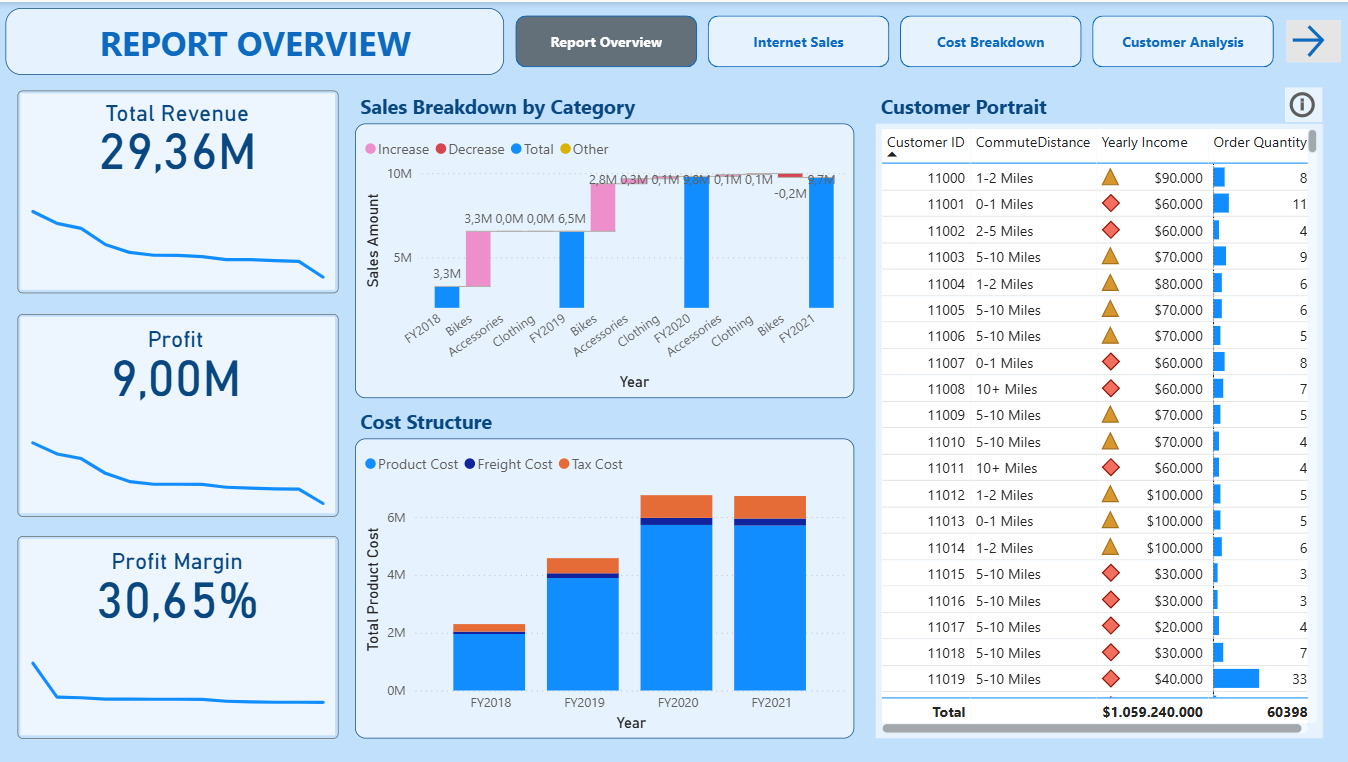

This screenshot's page, from the dashboard's own definition file:
{"tool":"powerbi","page":{"name":"Report Overview","canvas":[1280,720],"ordinal":0},"visuals":[{"type":"textbox","box":[7.2,6.2,471.8,63.6],"z":0},{"type":"pageNavigator","box":[490.3,13.3,720,49.2],"z":1000},{"type":"actionButton","box":[1220.5,17.4,51.3,40],"z":2000},{"type":"shape","box":[18.1,84.4,304,192],"z":3000},{"type":"lineChart","fields":{"Y":["Fact.Revenue"],"Category":["Date.Calendar.Quarter"]},"box":[18.5,176.6,303.9,90.9],"z":4000},{"type":"card","title":"Total Revenue","fields":{"Values":["Fact.Revenue"]},"box":[76.7,92.3,186,83.8],"z":5000},{"type":"shape","box":[18.1,295.2,304,192],"z":6000},{"type":"lineChart","fields":{"Category":["Date.Calendar.Quarter"],"Y":["Fact.Profit"]},"box":[18.5,390.5,303.9,90.9],"z":7000},{"type":"card","title":"Profit","fields":{"Values":["Fact.Profit"]},"box":[75.3,306.7,186,83.8],"z":8000},{"type":"shape","box":[18.1,505.9,304,192],"z":9000},{"type":"lineChart","fields":{"Category":["Date.Calendar.Quarter"],"Y":["Fact.Profit Margin"]},"box":[18.5,600.7,303.9,90.9],"z":10000},{"type":"card","title":"Profit Margin","fields":{"Values":["Fact.Profit Margin"]},"box":[76.7,516.9,186,83.8],"z":11000},{"type":"waterfallChart","title":"Sales Breakdown by Category","fields":{"Category":["Date.Calendar.Year","Date.Calendar.Quarter","Date.Calendar.Month"],"Y":["Sum(Internet Sales.Sales Amount)"],"Breakdown":["Product.Category"]},"box":[338,115,472.9,259.9],"z":12000},{"type":"columnChart","title":"Cost Structure","fields":{"Category":["Date.Calendar.Year","Date.Calendar.Quarter","Date.Calendar.Month"],"Y":["Fact.Product Cost","Fact.Total Freight","Fact.Total Tax"]},"box":[338,413.3,472.9,284],"z":13000},{"type":"textbox","box":[338,80.9,349.4,45.4],"z":14000},{"type":"textbox","box":[338,379.2,349.4,45.4],"z":15000},{"type":"tableEx","fields":{"Values":["Customer.CustomerKey","Customer.CommuteDistance","Sum(Customer.YearlyIncome)","Sum(Internet Sales.Order Quantity)"]},"box":[830.8,115,423.2,582.3],"z":16000},{"type":"textbox","box":[830.8,80.9,349.4,45.4],"z":17000},{"type":"actionButton","box":[1218.5,80.9,35.5,32.7],"z":18000}]}

Visuals, with their boxes in screenshot pixels (x1, y1, x2, y2), scaled from the page's 1280x720 canvas onto the 1348x762 screenshot:
textbox: locate(8, 7, 504, 74)
pageNavigator: locate(516, 14, 1275, 66)
actionButton: locate(1285, 18, 1339, 61)
shape: locate(19, 89, 339, 293)
lineChart - Fact.Revenue x Date.Calendar.Quarter: locate(19, 187, 340, 283)
"Total Revenue" card: locate(81, 98, 277, 186)
shape: locate(19, 312, 339, 516)
lineChart - Date.Calendar.Quarter x Fact.Profit: locate(19, 413, 340, 509)
"Profit" card: locate(79, 325, 275, 413)
shape: locate(19, 535, 339, 739)
lineChart - Date.Calendar.Quarter x Fact.Profit Margin: locate(19, 636, 340, 732)
"Profit Margin" card: locate(81, 547, 277, 636)
"Sales Breakdown by Category" waterfallChart: locate(356, 122, 854, 397)
"Cost Structure" columnChart: locate(356, 437, 854, 738)
textbox: locate(356, 86, 724, 134)
textbox: locate(356, 401, 724, 449)
tableEx - Customer.CustomerKey x Customer.CommuteDistance: locate(875, 122, 1321, 738)
textbox: locate(875, 86, 1243, 134)
actionButton: locate(1283, 86, 1321, 120)
